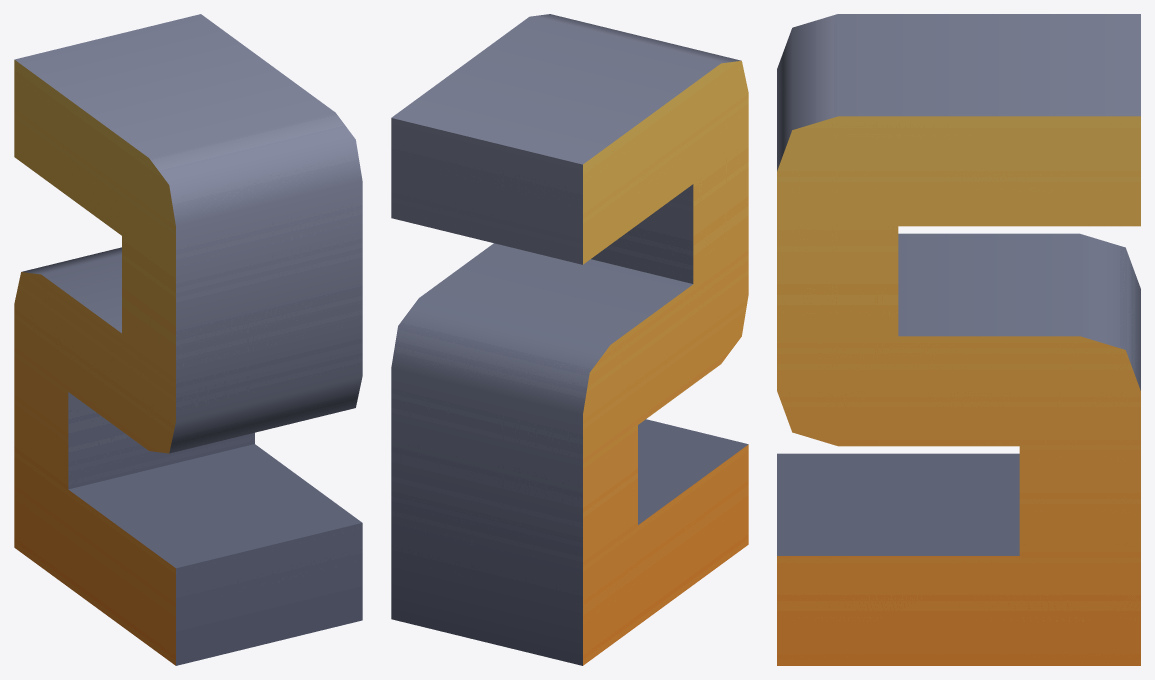
Rendered from number-2.glb.
The picture shows the model from 3 angles, left to right: view 1: azimuth 30°, elevation 25°; view 2: azimuth 150°, elevation 25°; view 3: azimuth 270°, elevation 25°; orthographic projection. The views are drawn at different scales.
Visible parts, largest first — view 1: number-2; view 2: number-2; view 3: number-2.
Boxes of the visible parts, left/top/right/bottom form: number-2: left=14, top=14, right=362, bottom=665; number-2: left=391, top=14, right=748, bottom=665; number-2: left=777, top=14, right=1140, bottom=665.
Size of the model in its own units: 0.2 by 0.5 by 0.3.
1 material, 1 textured.
